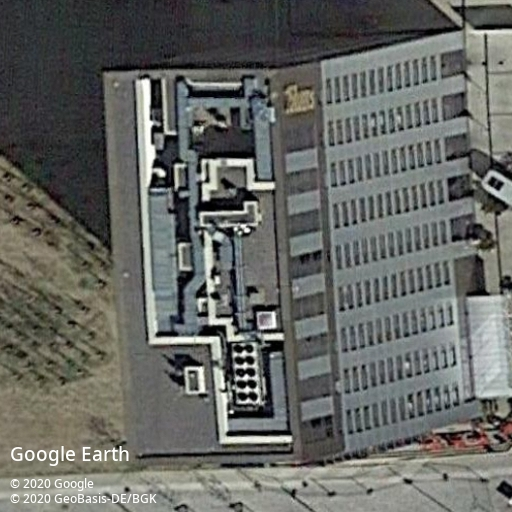Chiller: (230, 341, 262, 406)
